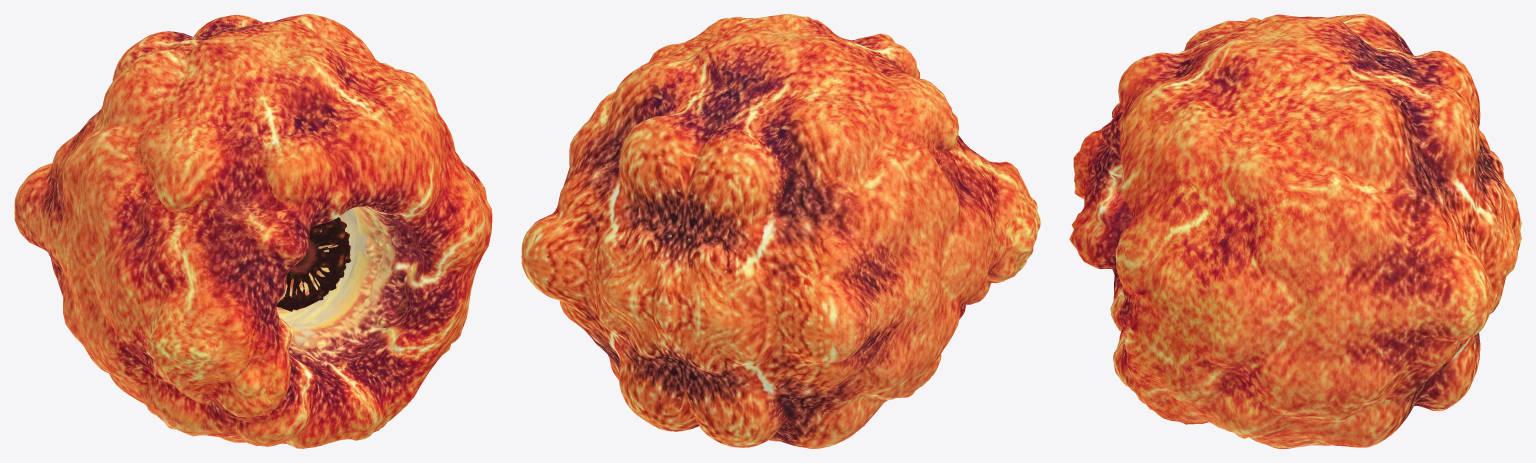
Rendered from supernova.glb.
3 views of the same model, side by side, from view 1: azimuth 30°, elevation 25°; view 2: azimuth 150°, elevation 25°; view 3: azimuth 270°, elevation 25° (orthographic). The views are drawn at different scales.
Bounding box in the file's own units: 1.85 × 1.86 × 1.91.
Materials: 1 (1 with a texture image).
